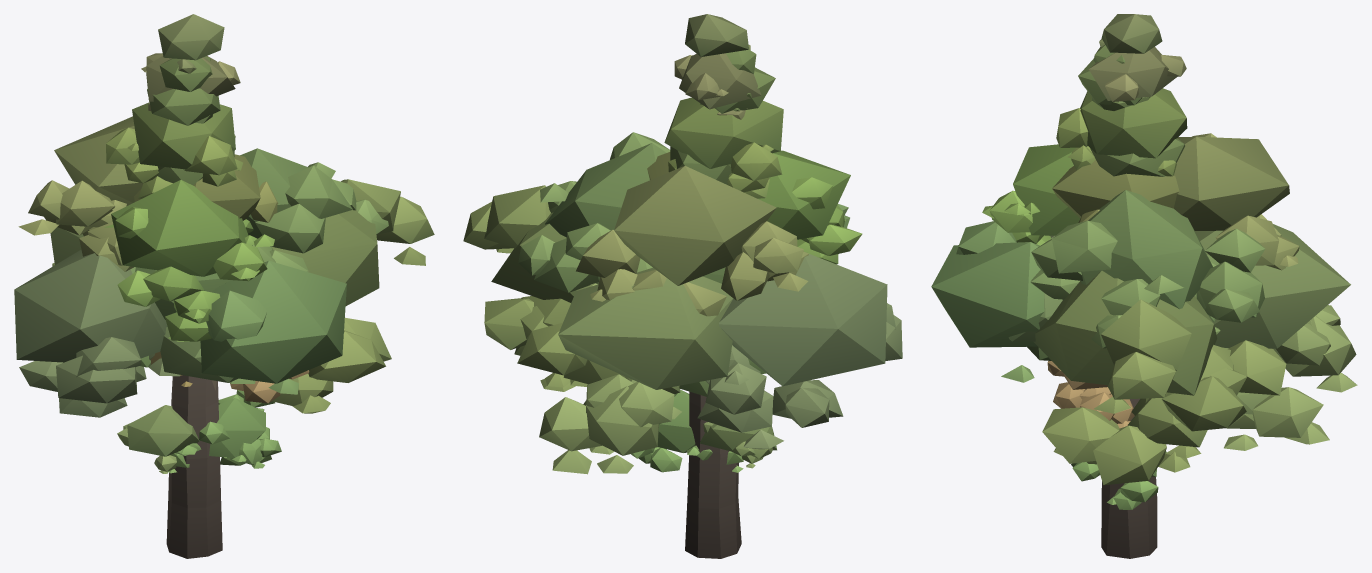
Rendered from tree_pack.glb.
The picture shows the model from 3 angles, left to right: view 1: azimuth 30°, elevation 25°; view 2: azimuth 150°, elevation 25°; view 3: azimuth 270°, elevation 25°; orthographic projection.
Visible parts, largest first — view 1: tree_prairie_wide_01, tree_prairie_01, tree_prairie_tall_01, tree_young_01, tree_dry_01; view 2: tree_prairie_wide_01, tree_prairie_01, tree_prairie_tall_01, tree_young_01; view 3: tree_prairie_wide_01, tree_prairie_01, tree_prairie_tall_01, tree_dry_01, tree_young_01.
Part boxes in pixels (box(x1,y1,x2,y2)): tree_prairie_wide_01: box(14, 179, 434, 558); tree_prairie_01: box(18, 116, 388, 341); tree_prairie_tall_01: box(106, 14, 278, 383); tree_young_01: box(117, 390, 281, 473); tree_dry_01: box(151, 352, 309, 403); tree_prairie_wide_01: box(463, 185, 902, 558); tree_prairie_01: box(518, 132, 862, 316); tree_prairie_tall_01: box(647, 14, 783, 396); tree_young_01: box(631, 390, 776, 472); tree_prairie_wide_01: box(931, 221, 1357, 558); tree_prairie_01: box(982, 133, 1299, 348); tree_prairie_tall_01: box(1027, 14, 1187, 360); tree_dry_01: box(1047, 360, 1134, 428); tree_young_01: box(1071, 451, 1166, 509).
Size of the model in its own units: 6.22 by 7.72 by 5.59.
